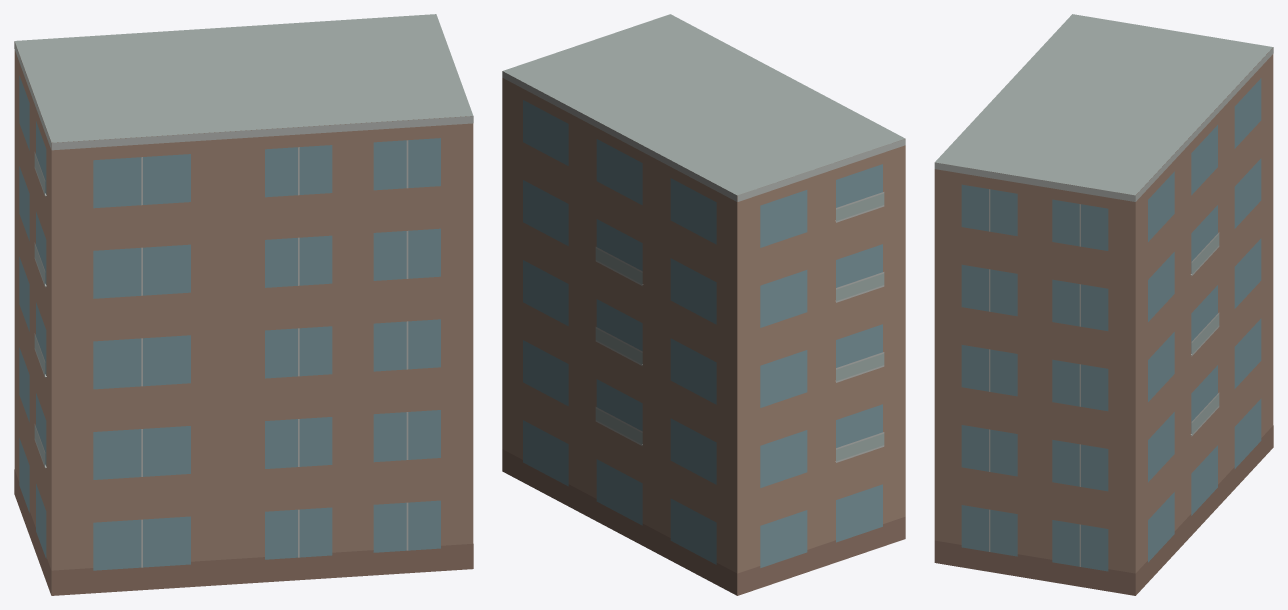
The model's file is survey-upis-32878827.glb.
3 renders of one model, left to right at view 1: azimuth 30°, elevation 25°; view 2: azimuth 150°, elevation 25°; view 3: azimuth 270°, elevation 25°, orthographic. The views are drawn at different scales.
Parts seen in each view (by area): view 1: survey-upis-32878827.tmp; view 2: survey-upis-32878827.tmp; view 3: survey-upis-32878827.tmp.
Part boxes in pixels (x1=…): survey-upis-32878827.tmp: x1=14, y1=14, x2=473, y2=595; survey-upis-32878827.tmp: x1=502, y1=14, x2=905, y2=595; survey-upis-32878827.tmp: x1=934, y1=14, x2=1273, y2=595.
Bounding box in the file's own units: 14.29 × 14.7 × 11.28.
